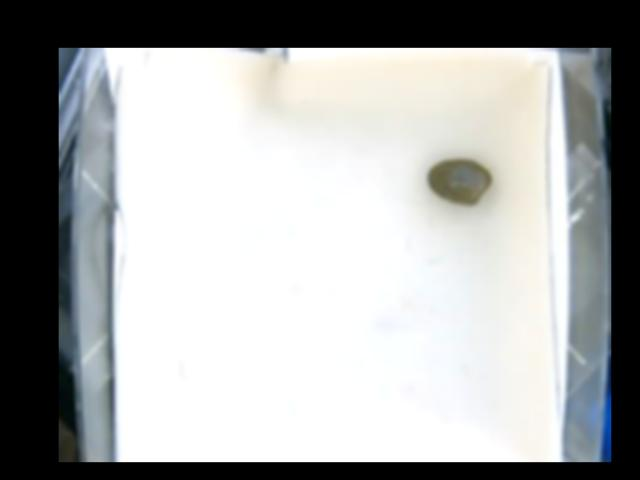Pebble: (428, 157, 493, 205)
